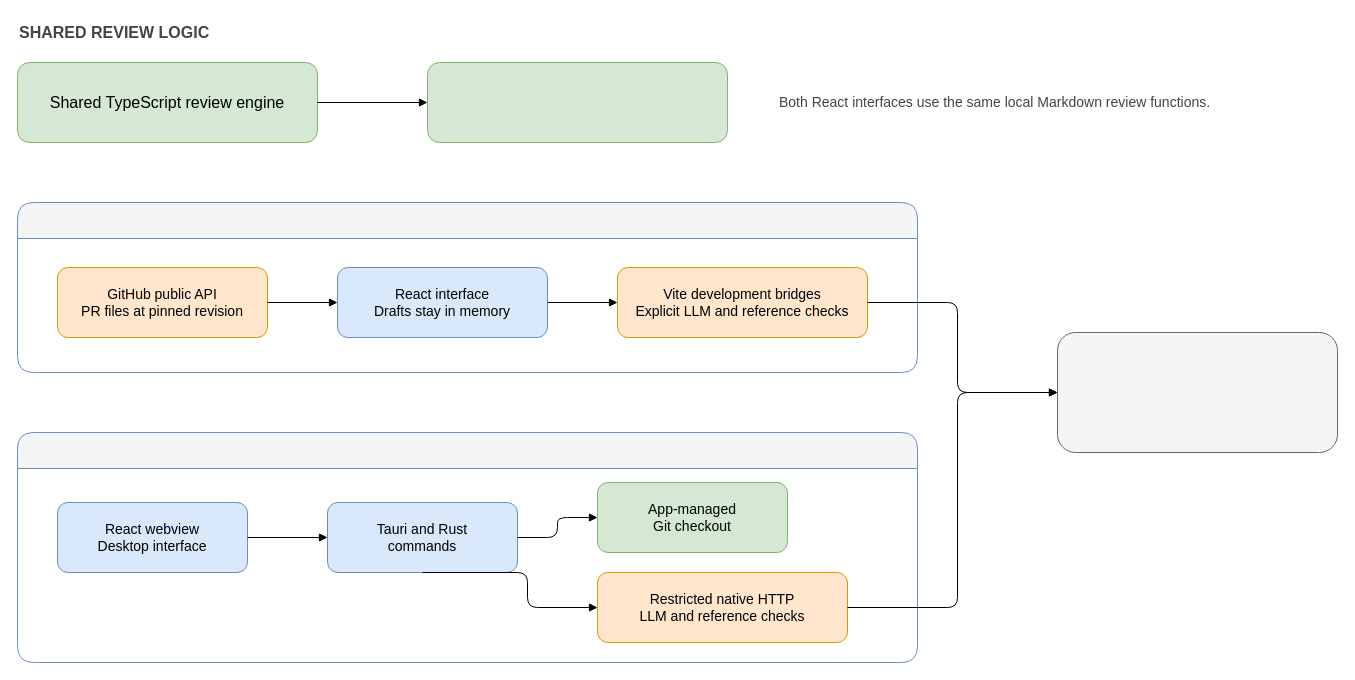
This 1355x680 diagram has some shape labels left out. Here are the shapes that lost their labels. From the top down, the box of each, then its label:
(426, 62, 728, 142): Offline findings and tentative alignments
(16, 202, 918, 372): BROWSER DEVELOPMENT
(1056, 332, 1338, 452): External HTTP targets Configured LLM provider Kubernetes documentation
(16, 432, 918, 662): DESKTOP APP
